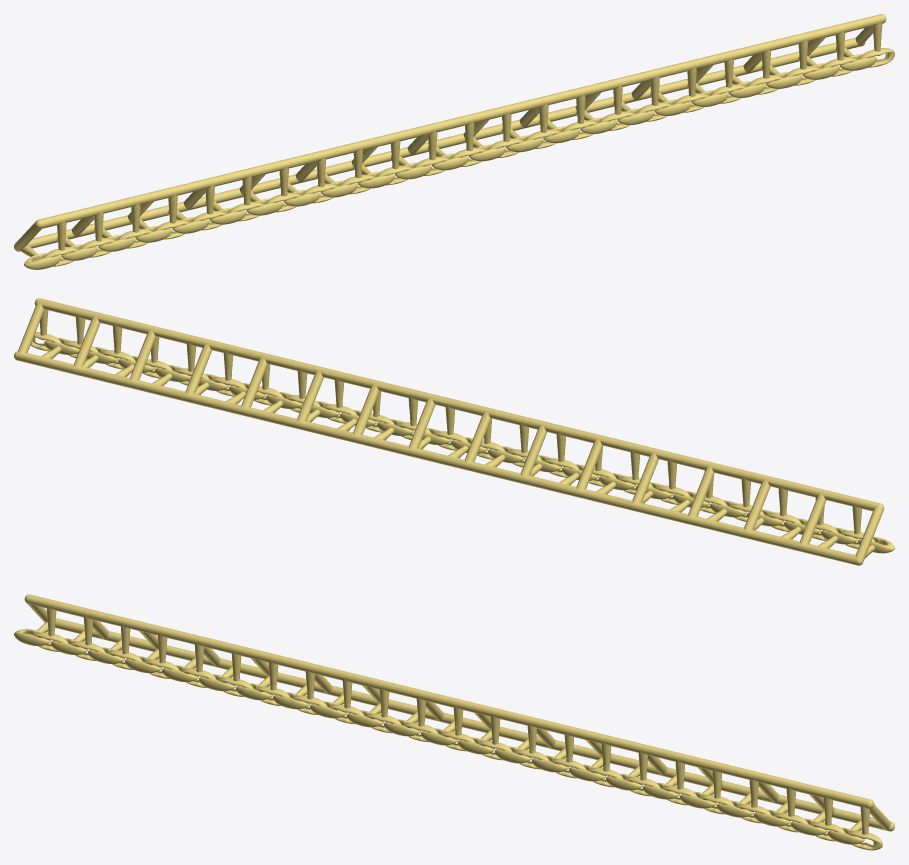
File: yzn5_63_3_5mm.glb
3 renders of one model, top to bottom at view 1: azimuth 30°, elevation 25°; view 2: azimuth 150°, elevation 25°; view 3: azimuth 330°, elevation 25°, orthographic.
Parts seen in each view (by area): view 1: Renderer Node; view 2: Renderer Node; view 3: Renderer Node.
Boxes of the visible parts, left/top/right/bottom form: Renderer Node: left=14, top=14, right=894, bottom=269; Renderer Node: left=14, top=298, right=894, bottom=565; Renderer Node: left=14, top=594, right=894, bottom=850.
Size of the model in its own units: 204 by 11.18 by 11.18.
